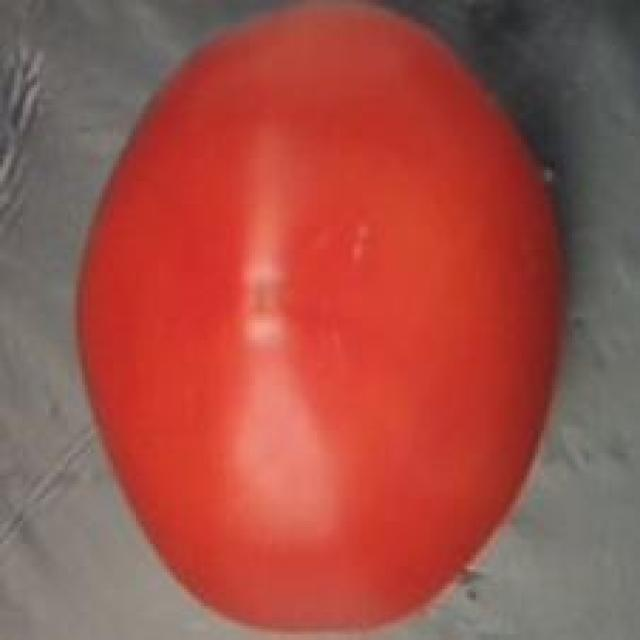ripe tomato: (59, 0, 580, 640)
